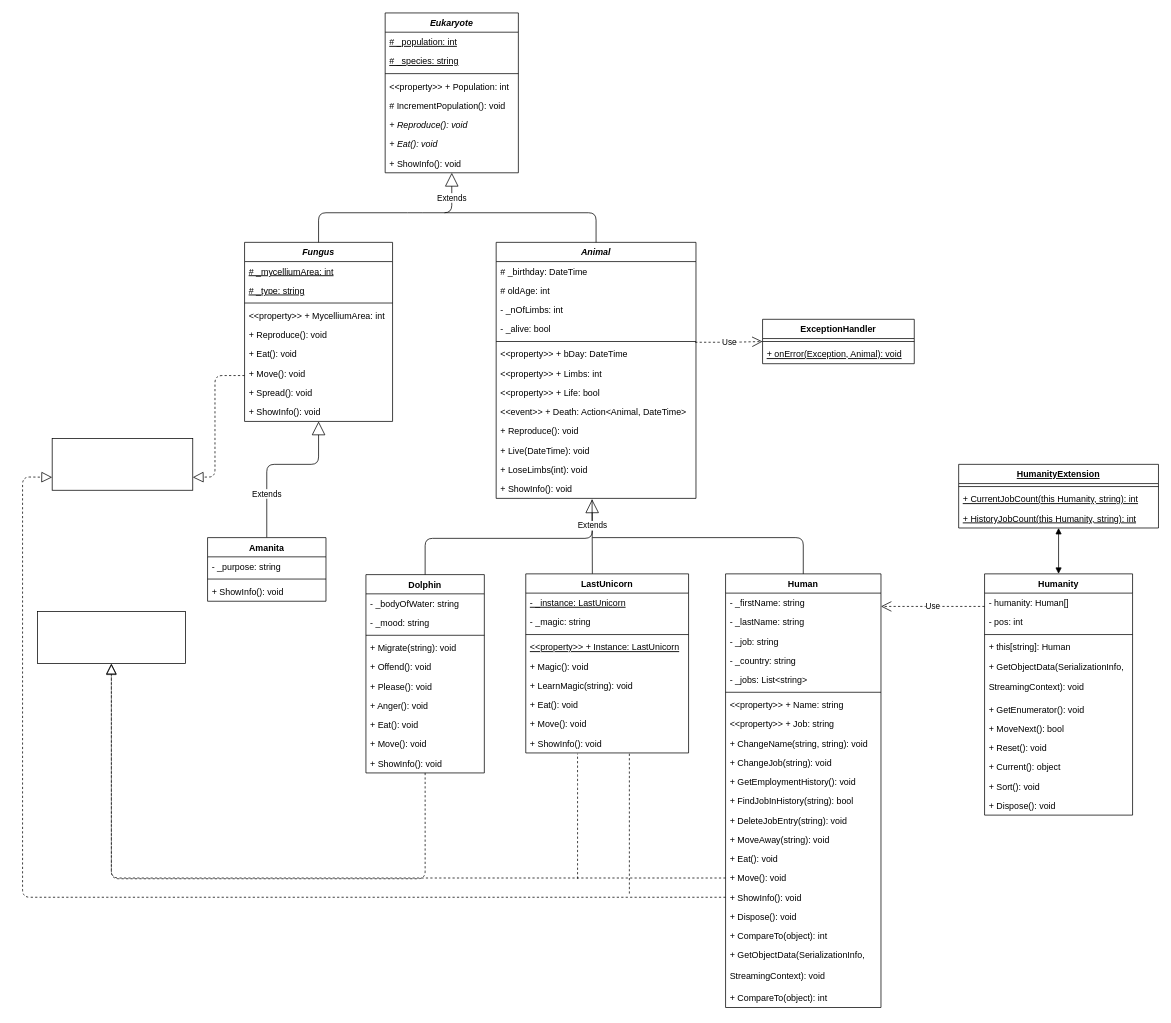
Some shapes in this 1171 by 1023 pixel diagram are drawn without their labels. Each missing label, with the centre of its shape:
"<<Interface>> IMovable + Move(): void" goes at point (122, 464).
"<<Interface>> ISwimmable + Move(): void" goes at point (111, 637).
